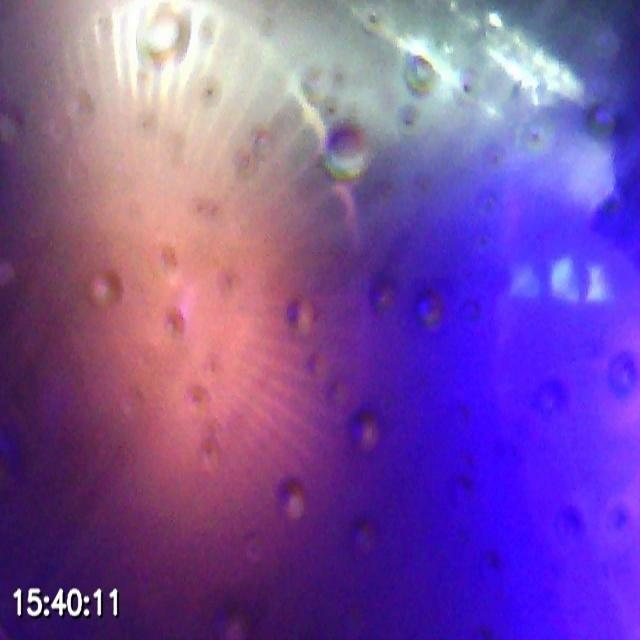white-dots: (508, 255, 618, 306)
